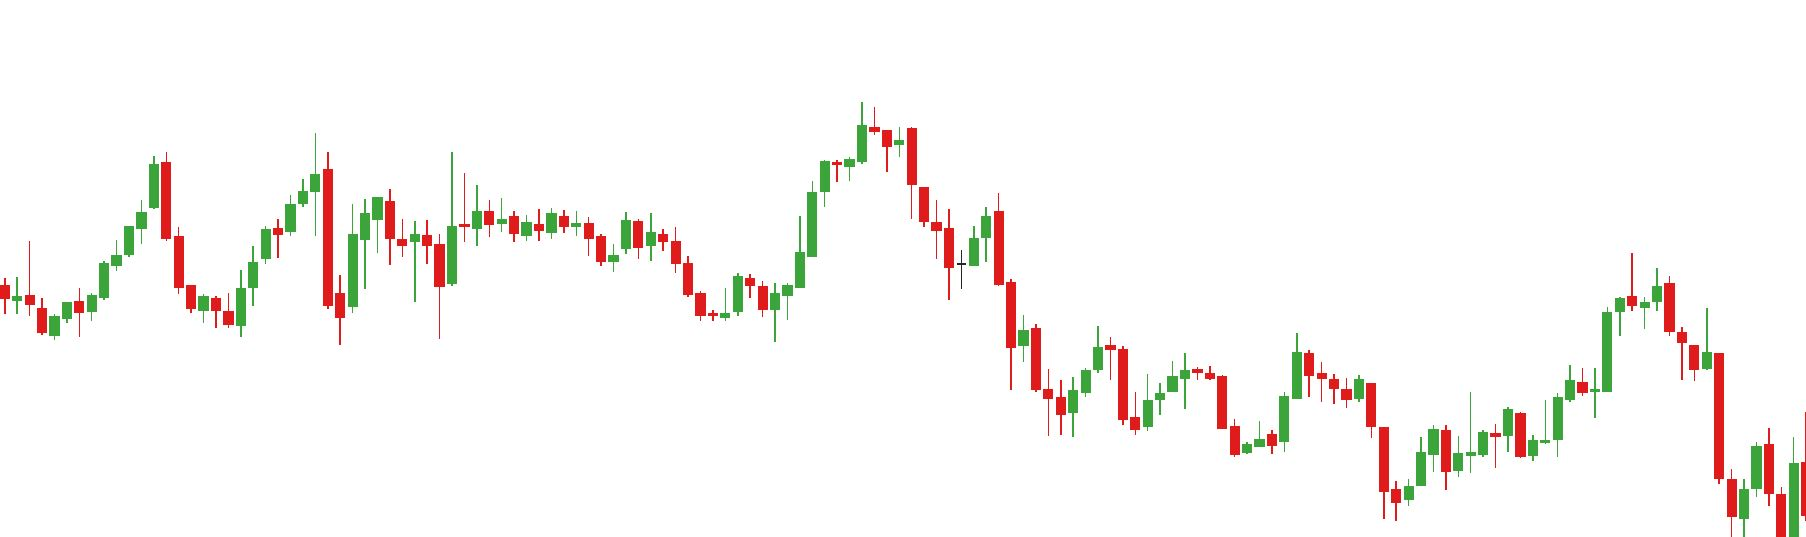buy: (1231, 408, 1431, 523), (223, 205, 359, 349)
sell: (1179, 330, 1315, 401)
